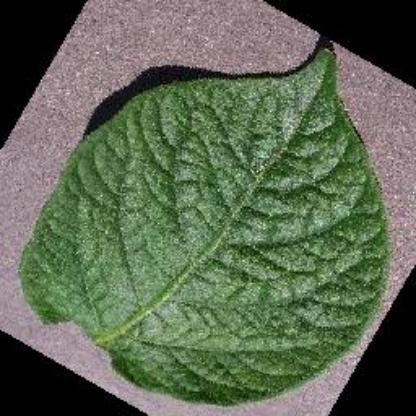Healthy-plant: (18, 43, 392, 408)
